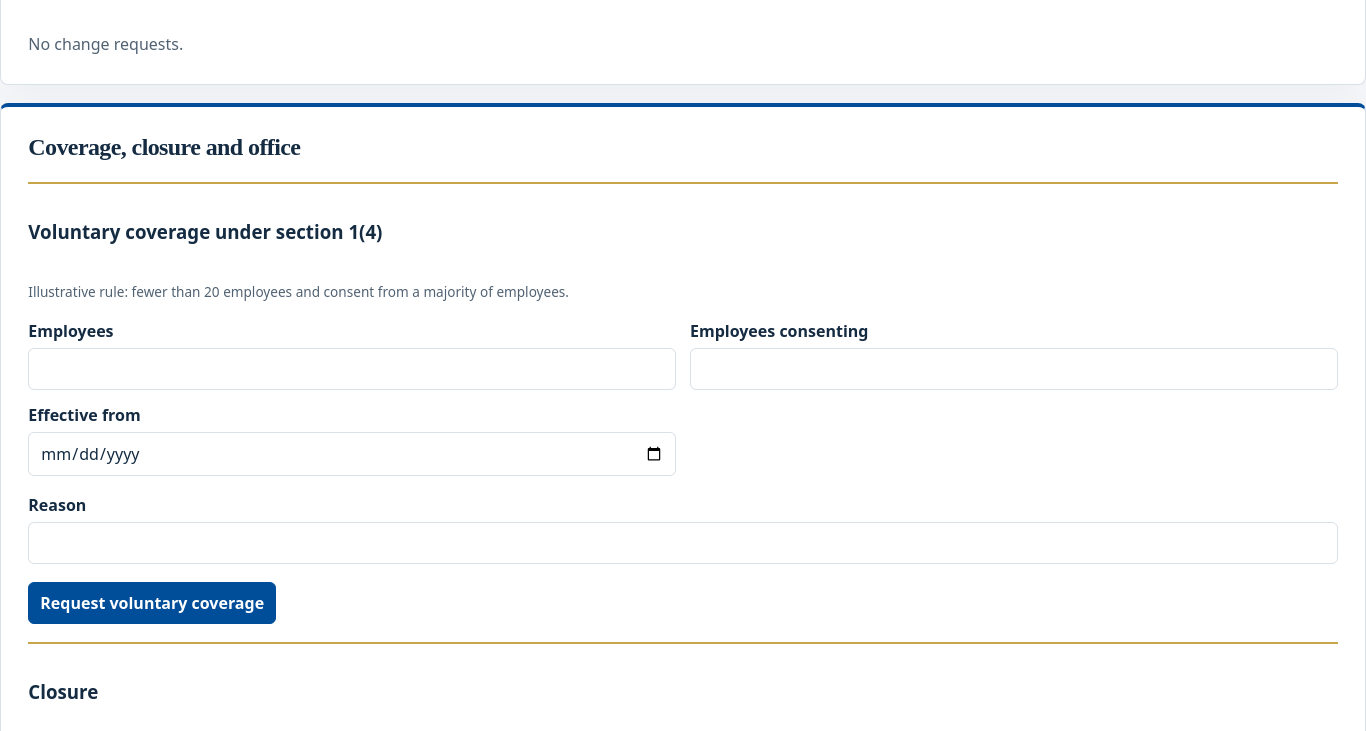
Test: posts voluntary coverage fields and shows a compulsory coverage problem
(page scrolled)
Type "12" into the number field labelled "Employees" at (352, 369), box left=28, top=348, right=676, bottom=390
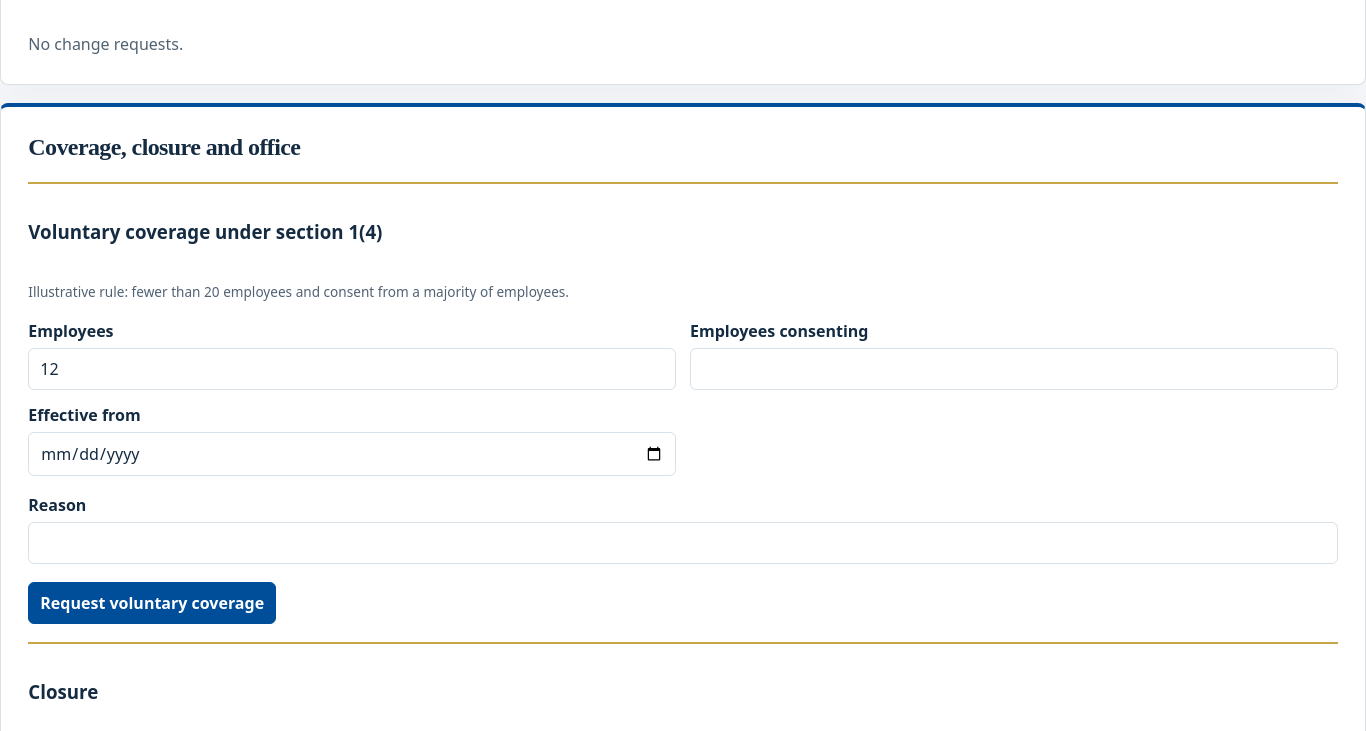
Type "8" into the number field labelled "Employees consenting" at (1014, 369), box left=690, top=348, right=1338, bottom=390
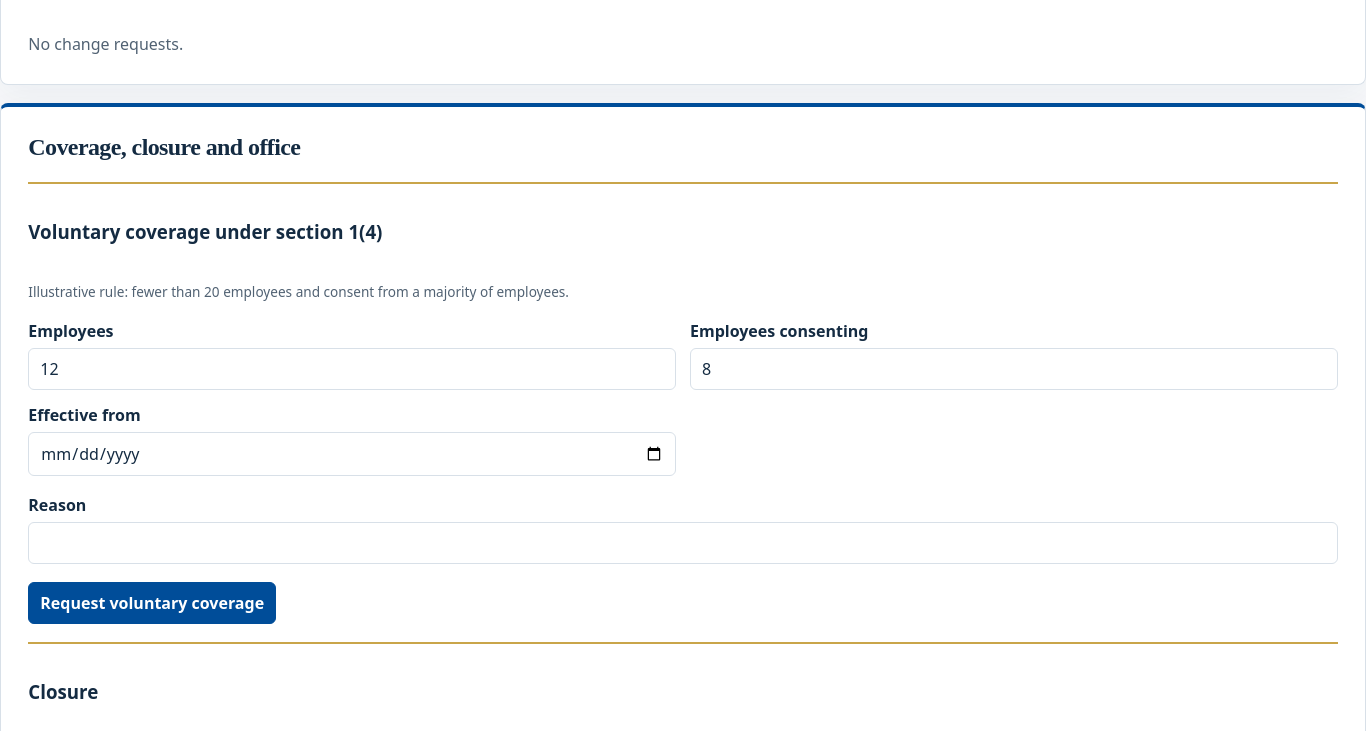
Type "2026-09-01" into the date field labelled "Effective from" at (352, 454), box left=28, top=432, right=676, bottom=476
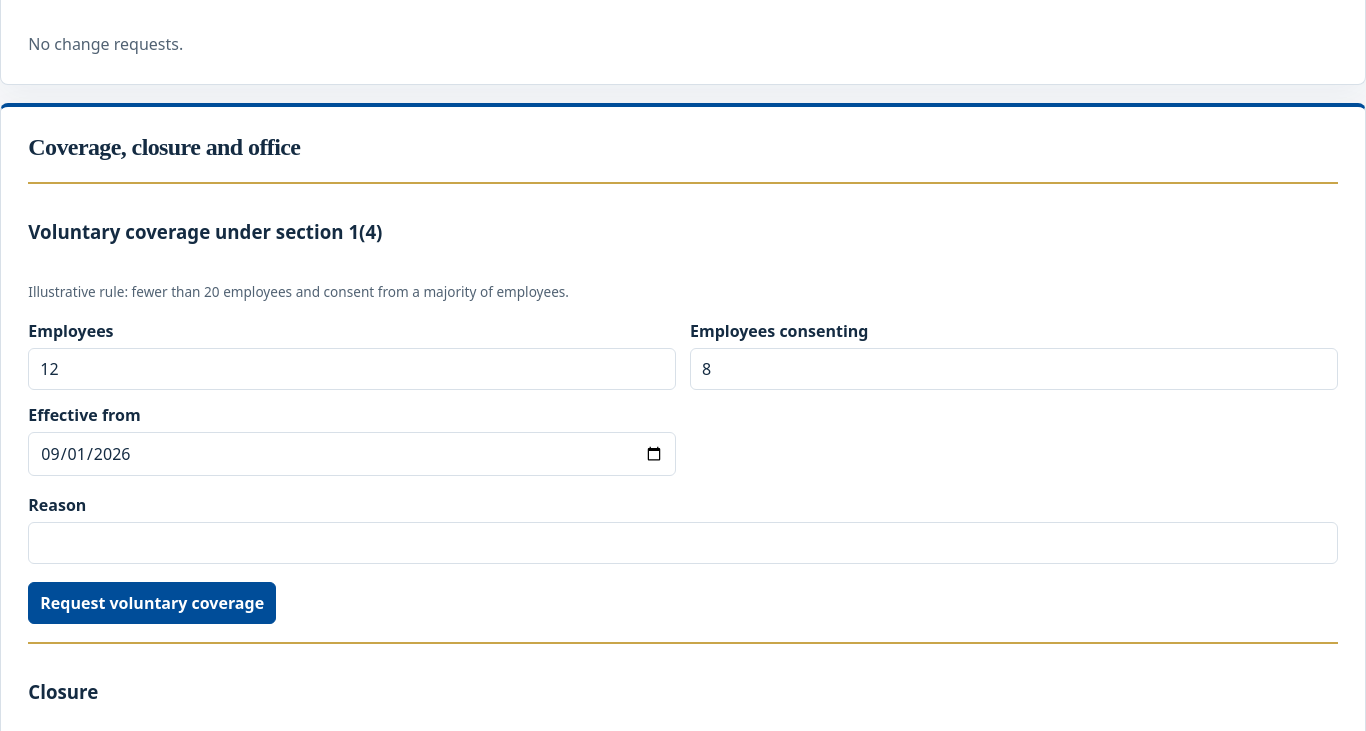
Type "Workers have agreed to coverage." into the field labelled "Reason" at (683, 543), box left=28, top=522, right=1338, bottom=564
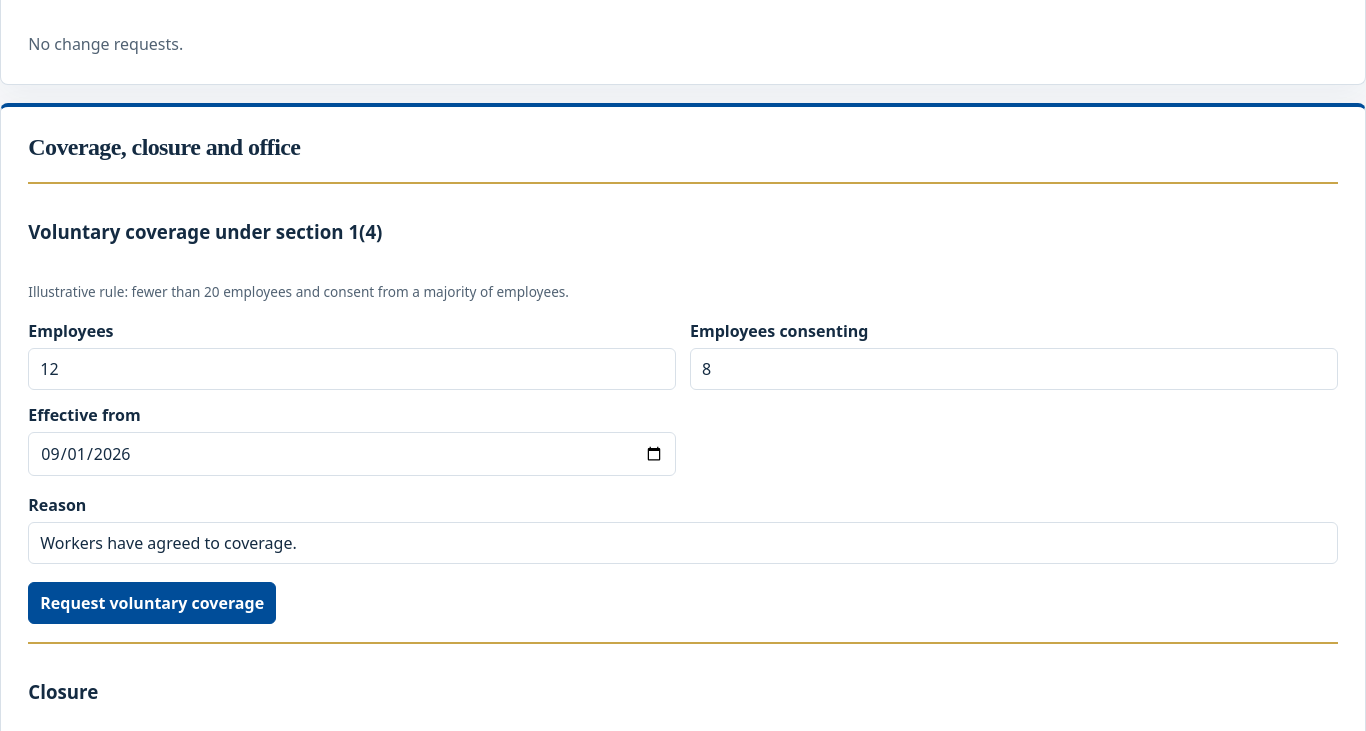
Submit the form named "Request voluntary coverage", box left=28, top=182, right=1338, bottom=624
(page scrolled)
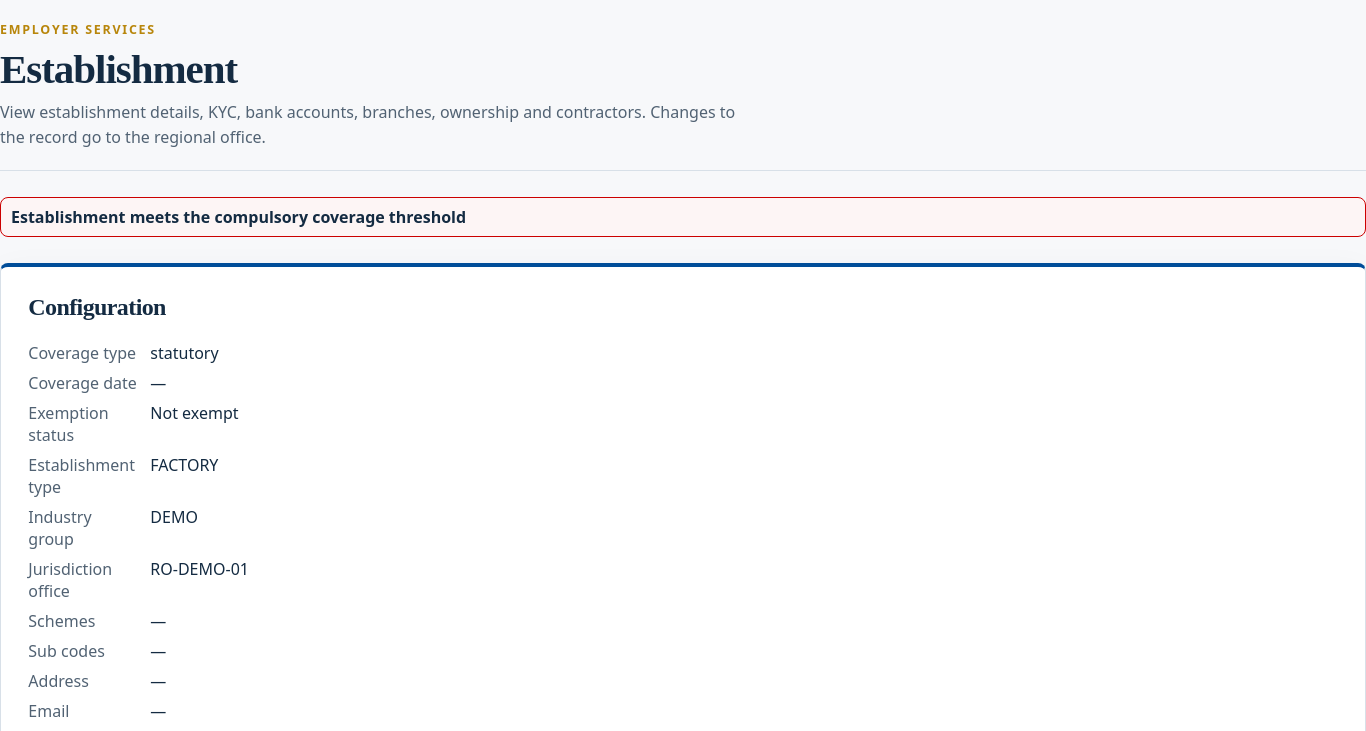
Check: the text "Establishment meets the compulsory coverage threshold" is shown, box left=11, top=206, right=466, bottom=228
